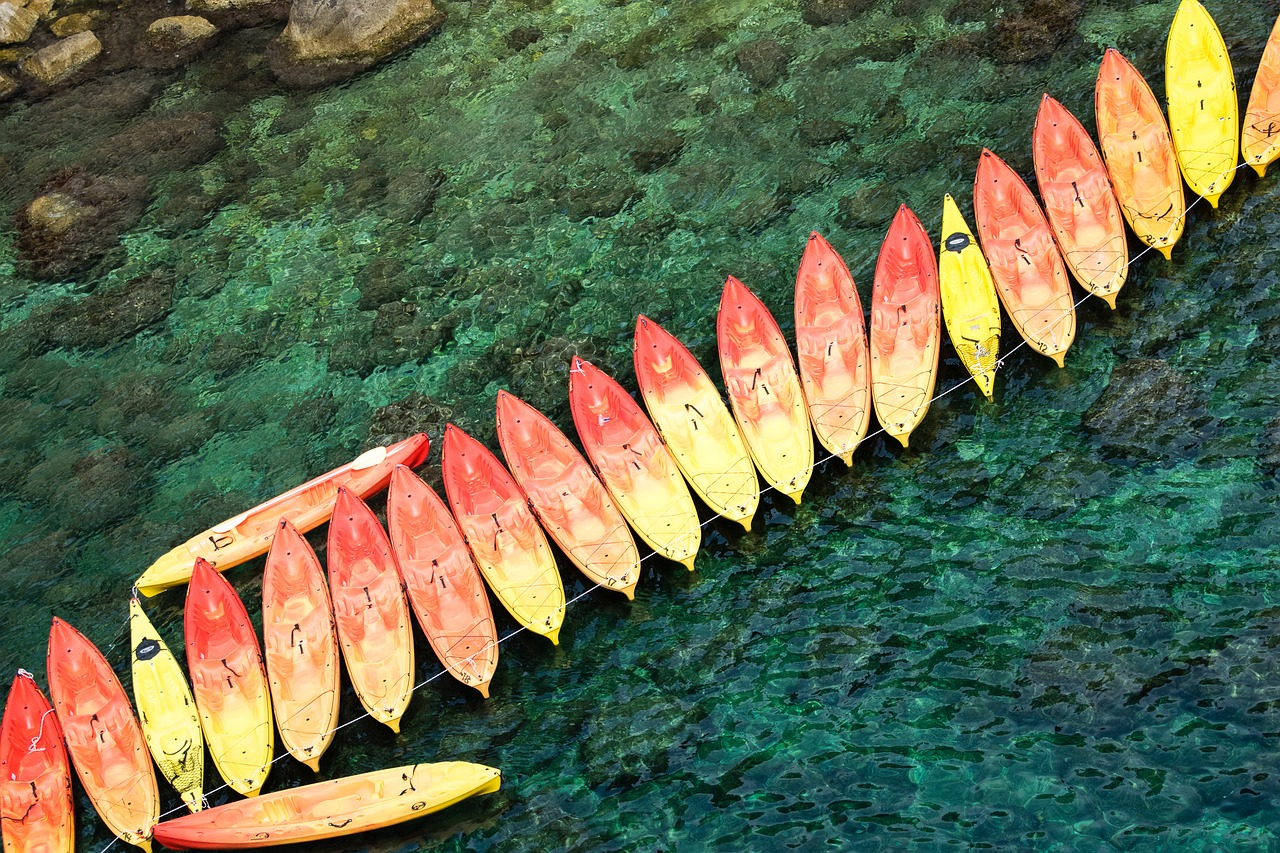kayak: (151, 758, 512, 853), (322, 481, 422, 737), (188, 553, 274, 799), (1095, 39, 1187, 264), (794, 229, 873, 475), (879, 199, 939, 467), (938, 187, 1005, 413)
